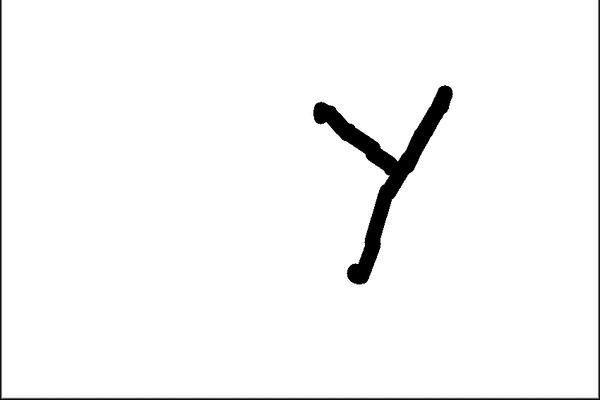Y: (295, 80, 466, 291)
